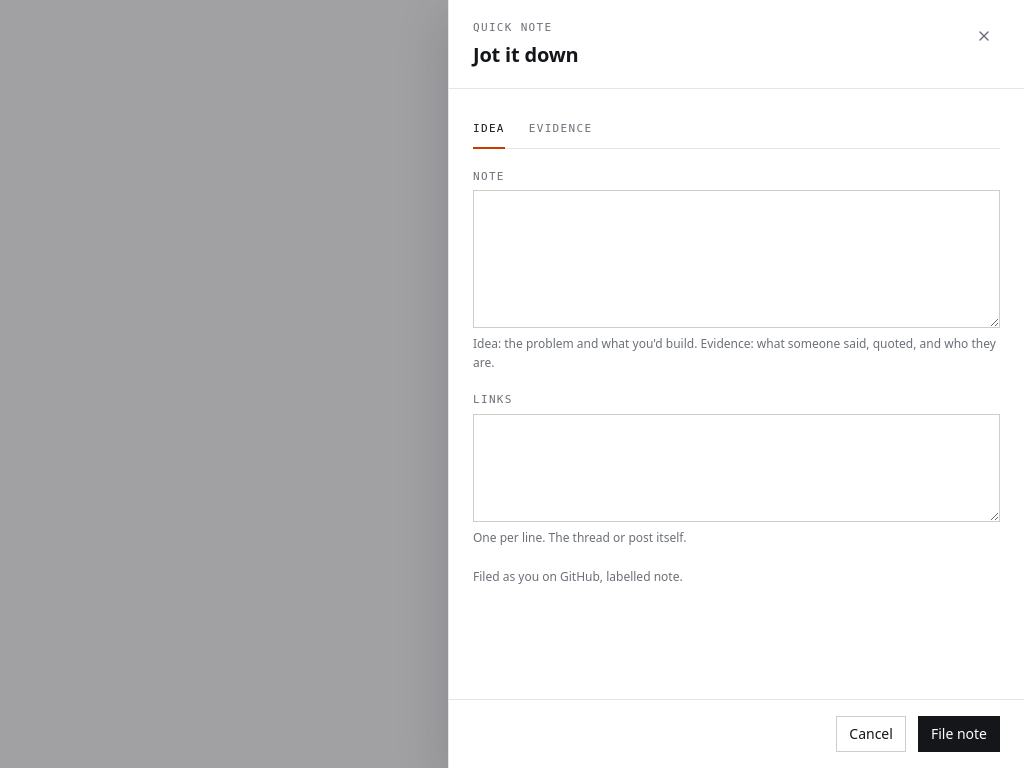
QuickNoteDrawer › CH10: asks for the note instead of sending an empty one
This screenshot has width=1024, height=768.
Click the button "File note" at (959, 734), box [918, 716, 1000, 752]
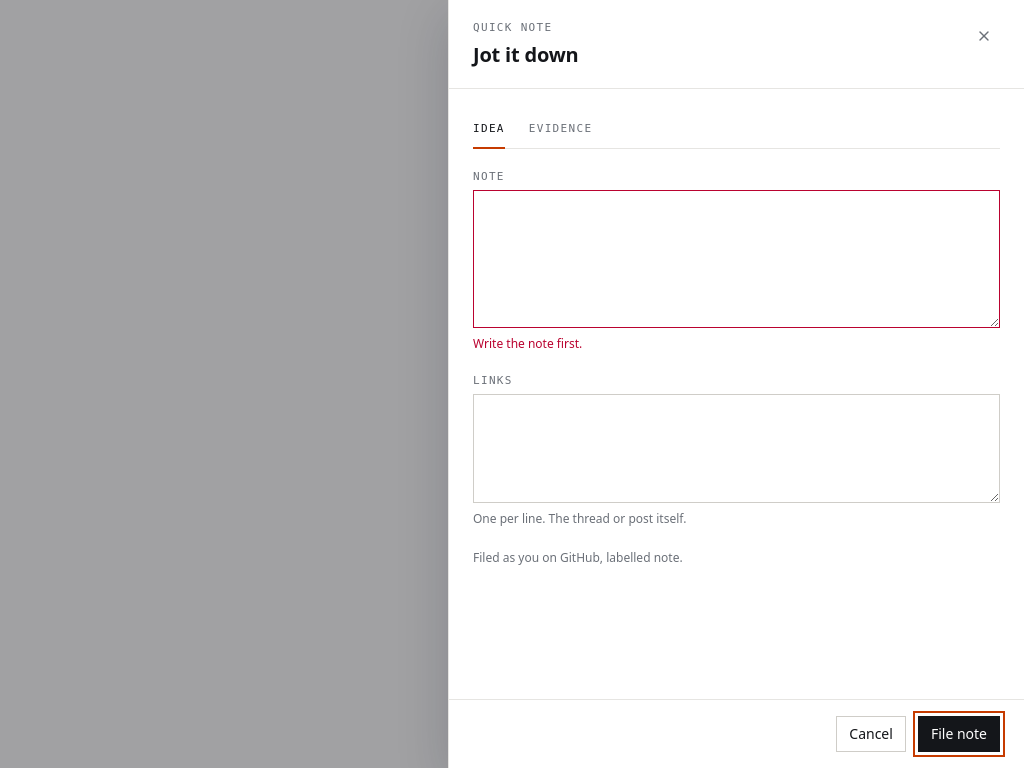
Expected: the text "Write the note first." is shown, [473, 335, 582, 352]
